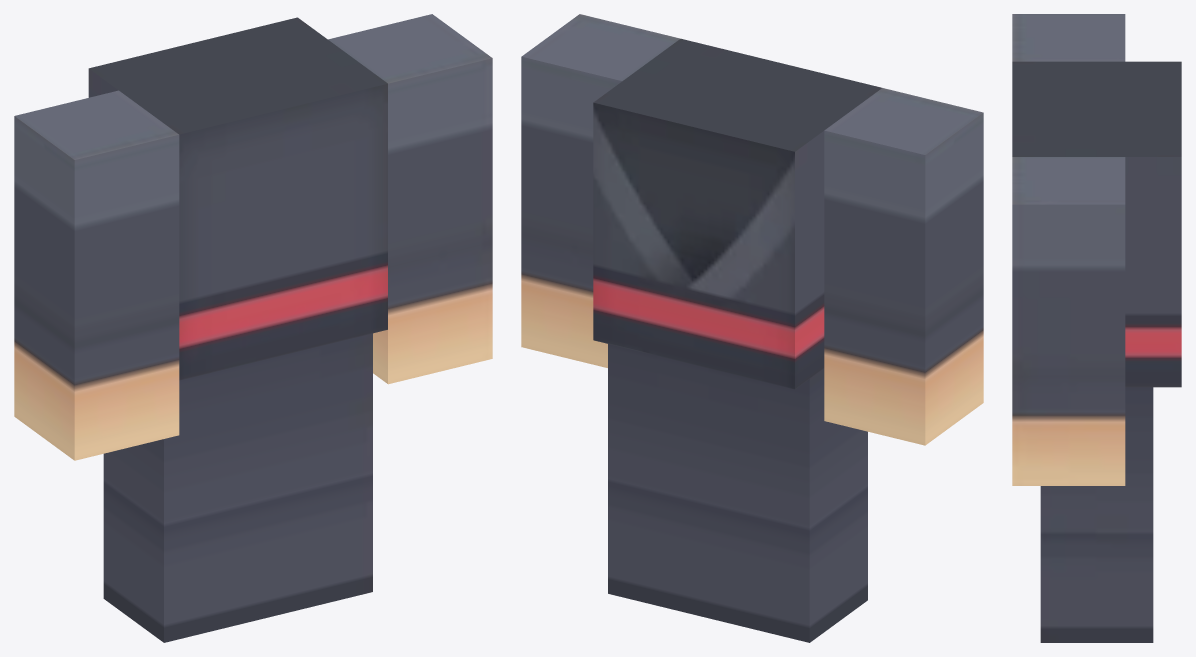
File: blocky-r.glb
3 views of the same model, side by side, from view 1: azimuth 30°, elevation 25°; view 2: azimuth 150°, elevation 25°; view 3: azimuth 270°, elevation 25° (orthographic). The views are drawn at different scales.
Visible parts, largest first — view 1: torso, arm-left, arm-right, leg-left, leg-right; view 2: torso, arm-left, leg-left, arm-right, leg-right; view 3: arm-right, torso, leg-right, arm-left.
Boxes of the visible parts, <box> form: torso: <box>88,17,387,380</box>; arm-left: <box>14,90,179,460</box>; arm-right: <box>328,14,492,384</box>; leg-left: <box>103,359,268,642</box>; leg-right: <box>268,333,372,617</box>; torso: <box>593,38,881,389</box>; arm-left: <box>824,88,983,445</box>; leg-left: <box>708,368,867,642</box>; arm-right: <box>521,14,679,367</box>; leg-right: <box>608,344,708,618</box>; arm-right: <box>1012,157,1125,485</box>; torso: <box>1012,61,1181,387</box>; leg-right: <box>1040,387,1153,642</box>; arm-left: <box>1012,14,1125,61</box>.
Size of the model in its own units: 1.21 by 1.44 by 0.4537.
Materials: 1 (1 with a texture image).
